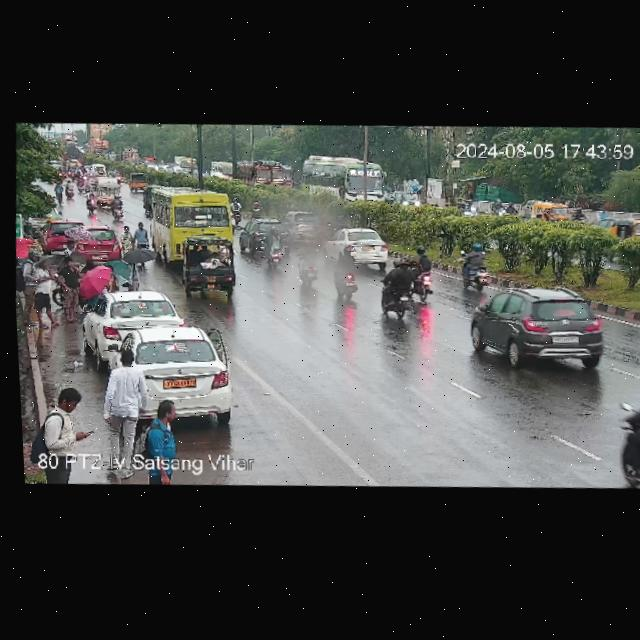bus: (141, 179, 246, 266), (298, 155, 387, 210), (207, 158, 236, 181), (172, 154, 198, 174)
car: (91, 320, 238, 433), (478, 289, 614, 376), (84, 287, 182, 353), (178, 236, 241, 302), (332, 226, 392, 266), (237, 218, 291, 257), (284, 205, 324, 242), (528, 197, 573, 226), (385, 190, 424, 212), (128, 171, 153, 191)
motorcycle: (373, 254, 431, 319), (616, 379, 640, 490), (455, 241, 499, 289), (253, 226, 288, 268), (296, 239, 323, 287), (107, 195, 128, 220), (51, 182, 66, 207), (83, 192, 99, 214), (64, 181, 78, 200)
person: (100, 350, 156, 434), (42, 387, 90, 456), (26, 254, 72, 325), (139, 403, 186, 462), (58, 256, 85, 309), (131, 221, 150, 254), (229, 196, 247, 220)
truck: (229, 157, 296, 192), (88, 136, 111, 162), (122, 145, 143, 163)
